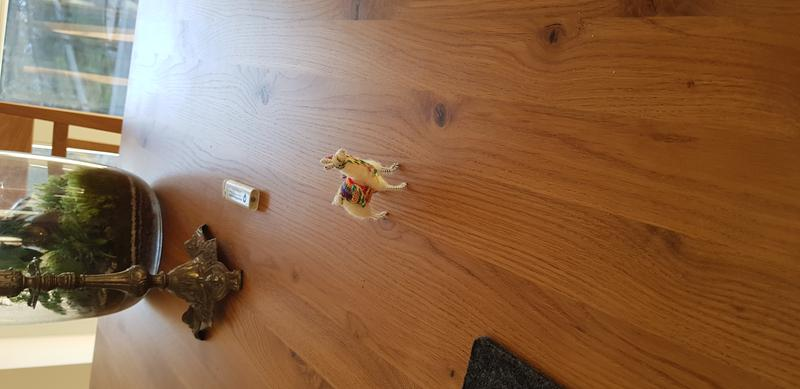Horse-Toy: (309, 143, 416, 242)
